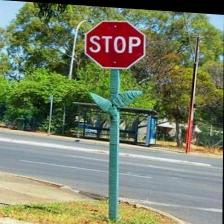Stop: (85, 17, 147, 69)
